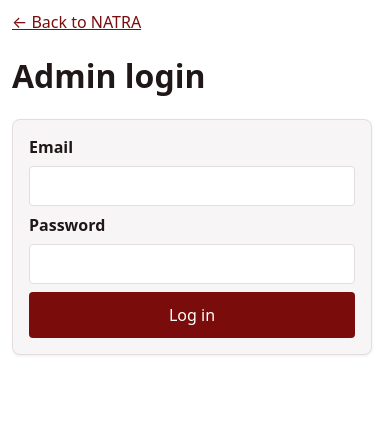
Test: AdminLogin › shows a generic fallback message for a non-ApiError failure
The image size is (389, 425).
Type "admin@example.com" into the field labelled "Email" at (192, 186), box [29,166,355,206]
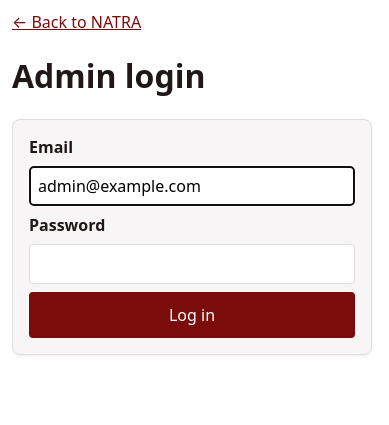
Type "hunter22" into the password field labelled "Password" at (192, 264), box [29,244,355,284]
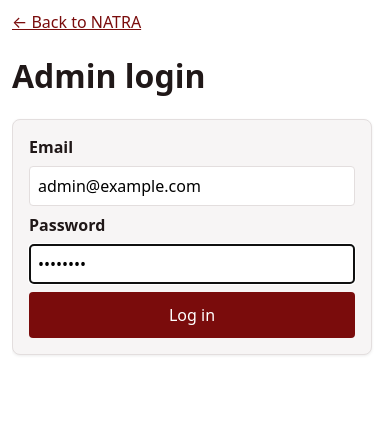
Click the button "Log in" at (192, 315), box [29,292,355,338]
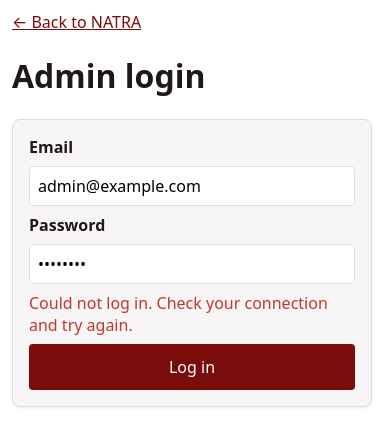
Expected: the message reads "Could not log in. Check your connection and try again.", [29,292,328,336]
